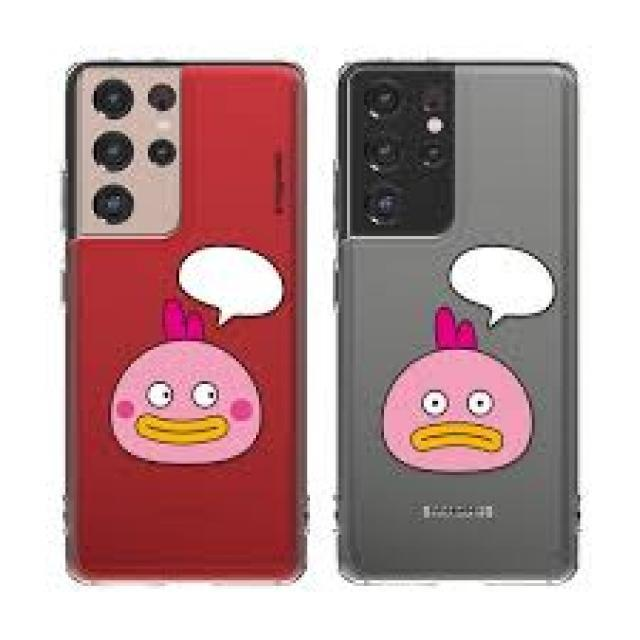phone: (60, 58, 309, 586), (337, 59, 582, 586)
